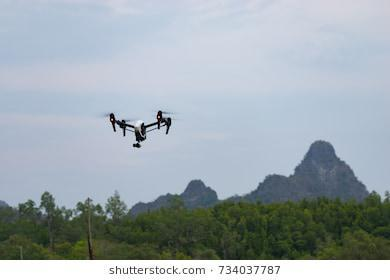drone: (62, 99, 213, 169)
